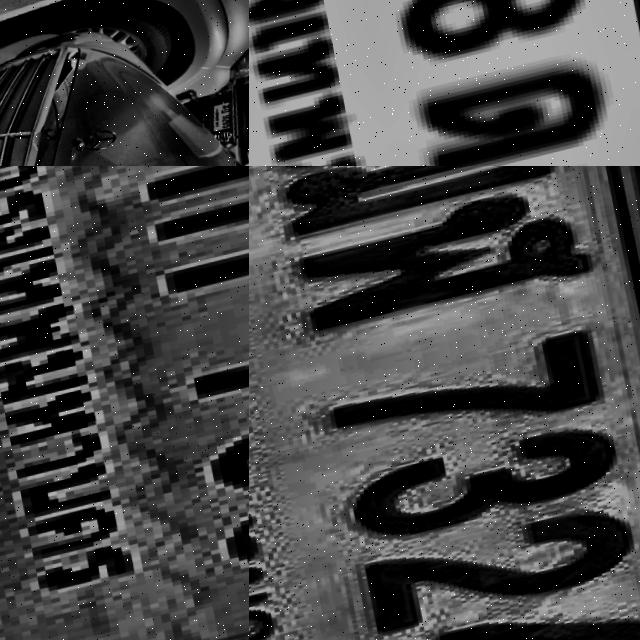license-plate: (249, 166, 640, 640), (0, 166, 249, 640), (249, 0, 640, 166), (203, 108, 238, 146)
